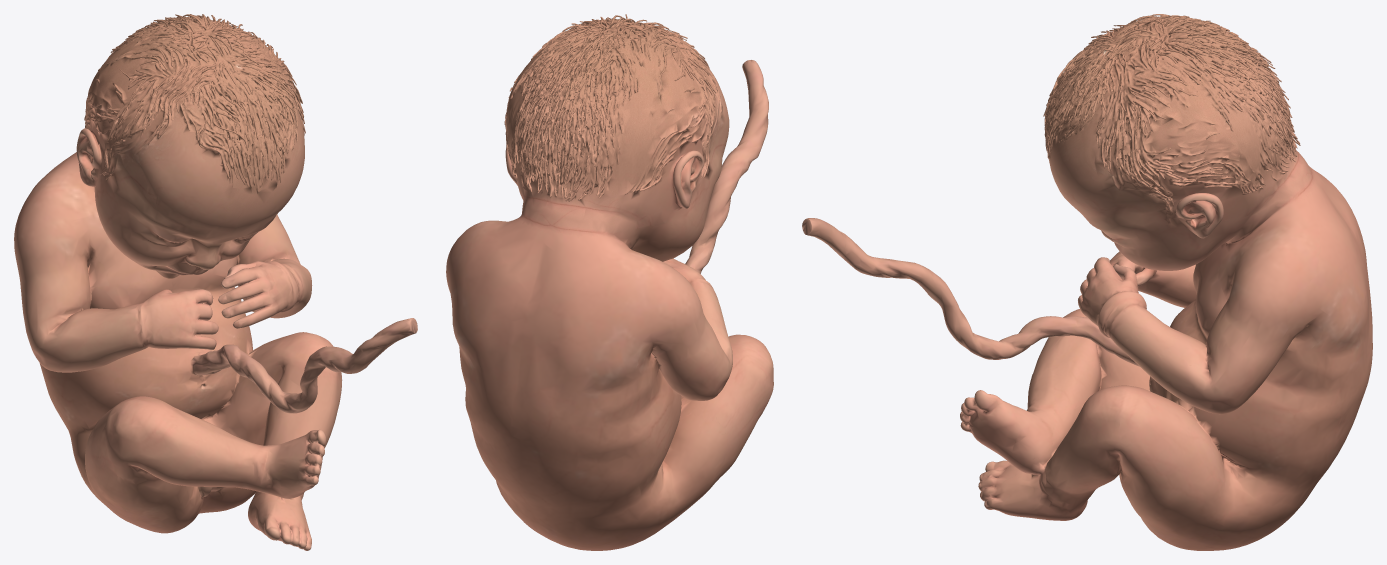
The model's file is semaine-34.glb.
3 renders of one model, left to right at view 1: azimuth 30°, elevation 25°; view 2: azimuth 150°, elevation 25°; view 3: azimuth 270°, elevation 25°, orthographic. The views are drawn at different scales.
Size of the model in its own units: 1.04 by 1.9 by 1.88.
1 material, 1 textured.
